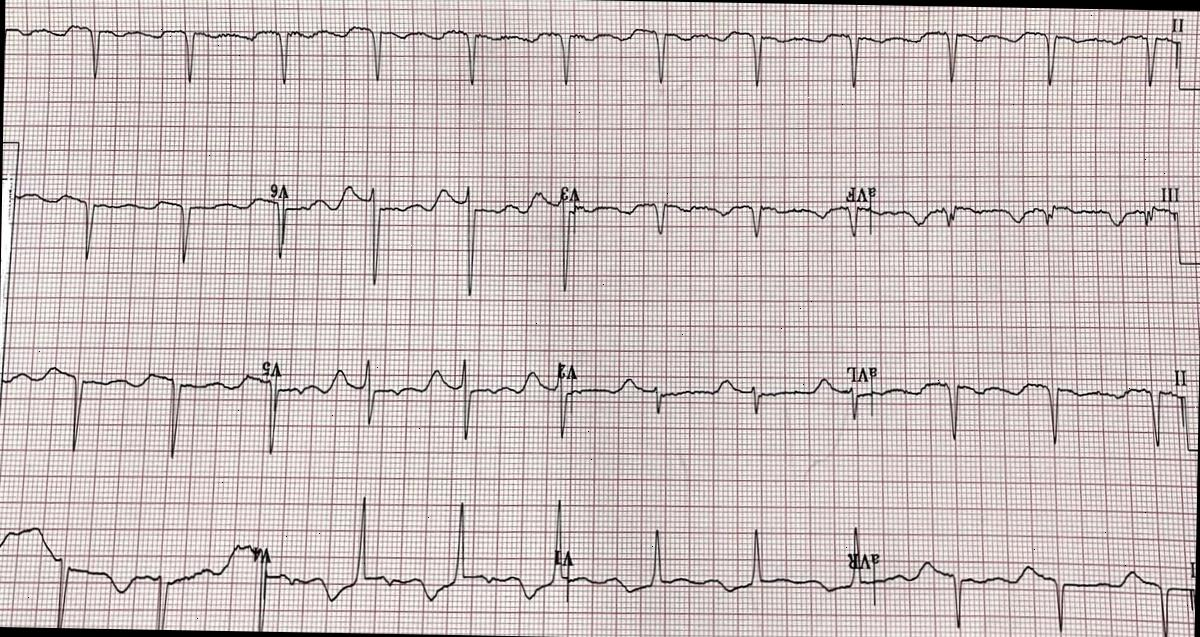Lead_I: (880, 518, 1195, 637)
Lead_II: (883, 339, 1195, 470)
Lead_III: (876, 167, 1189, 271)
Lead_II_ext: (4, 0, 1190, 106)
Lead_V1: (287, 479, 578, 624)
Lead_V2: (290, 328, 577, 467)
Lead_V3: (292, 152, 583, 302)
Lead_V4: (0, 487, 288, 631)
Lead_V5: (0, 344, 293, 474)
Lead_V6: (11, 154, 296, 284)
Lead_aVF: (579, 160, 876, 269)
Lead_aVL: (579, 348, 883, 471)
Lead_aVR: (578, 498, 880, 631)
